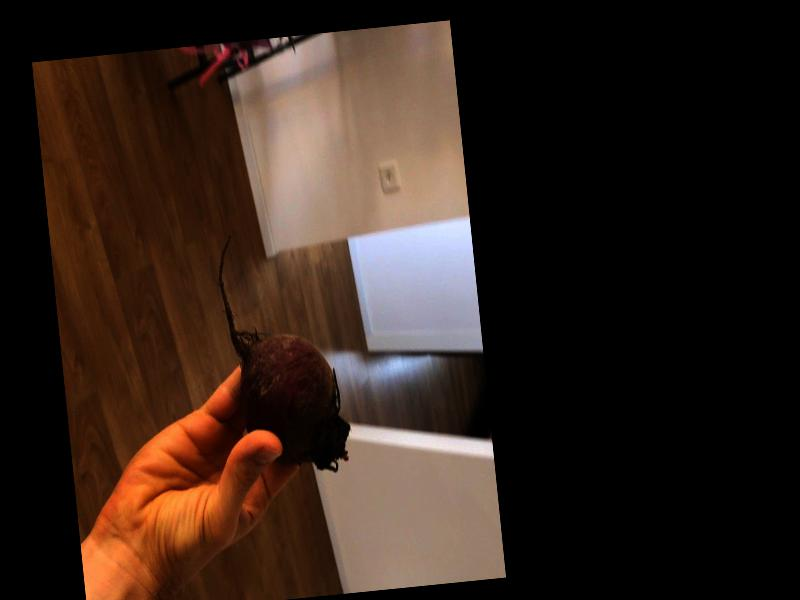Beet: (215, 223, 352, 478)
